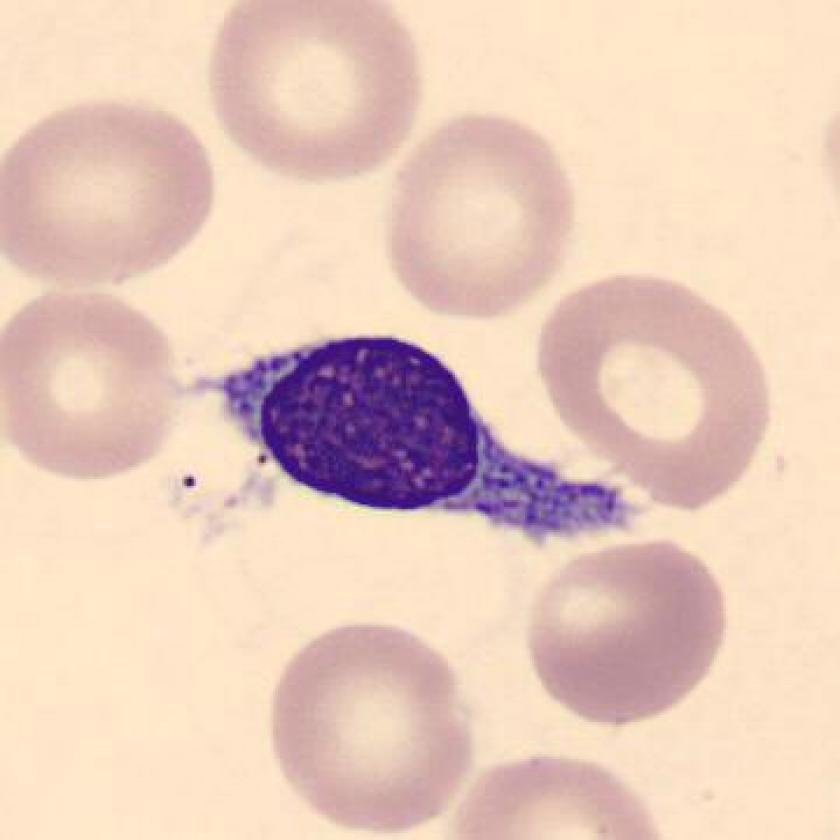lymphocyte: (183, 313, 640, 582)
